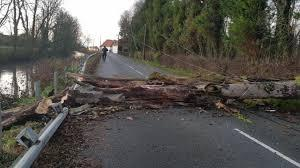Downstairs: (66, 72, 300, 117)
